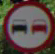No overtake: (2, 0, 51, 51)
